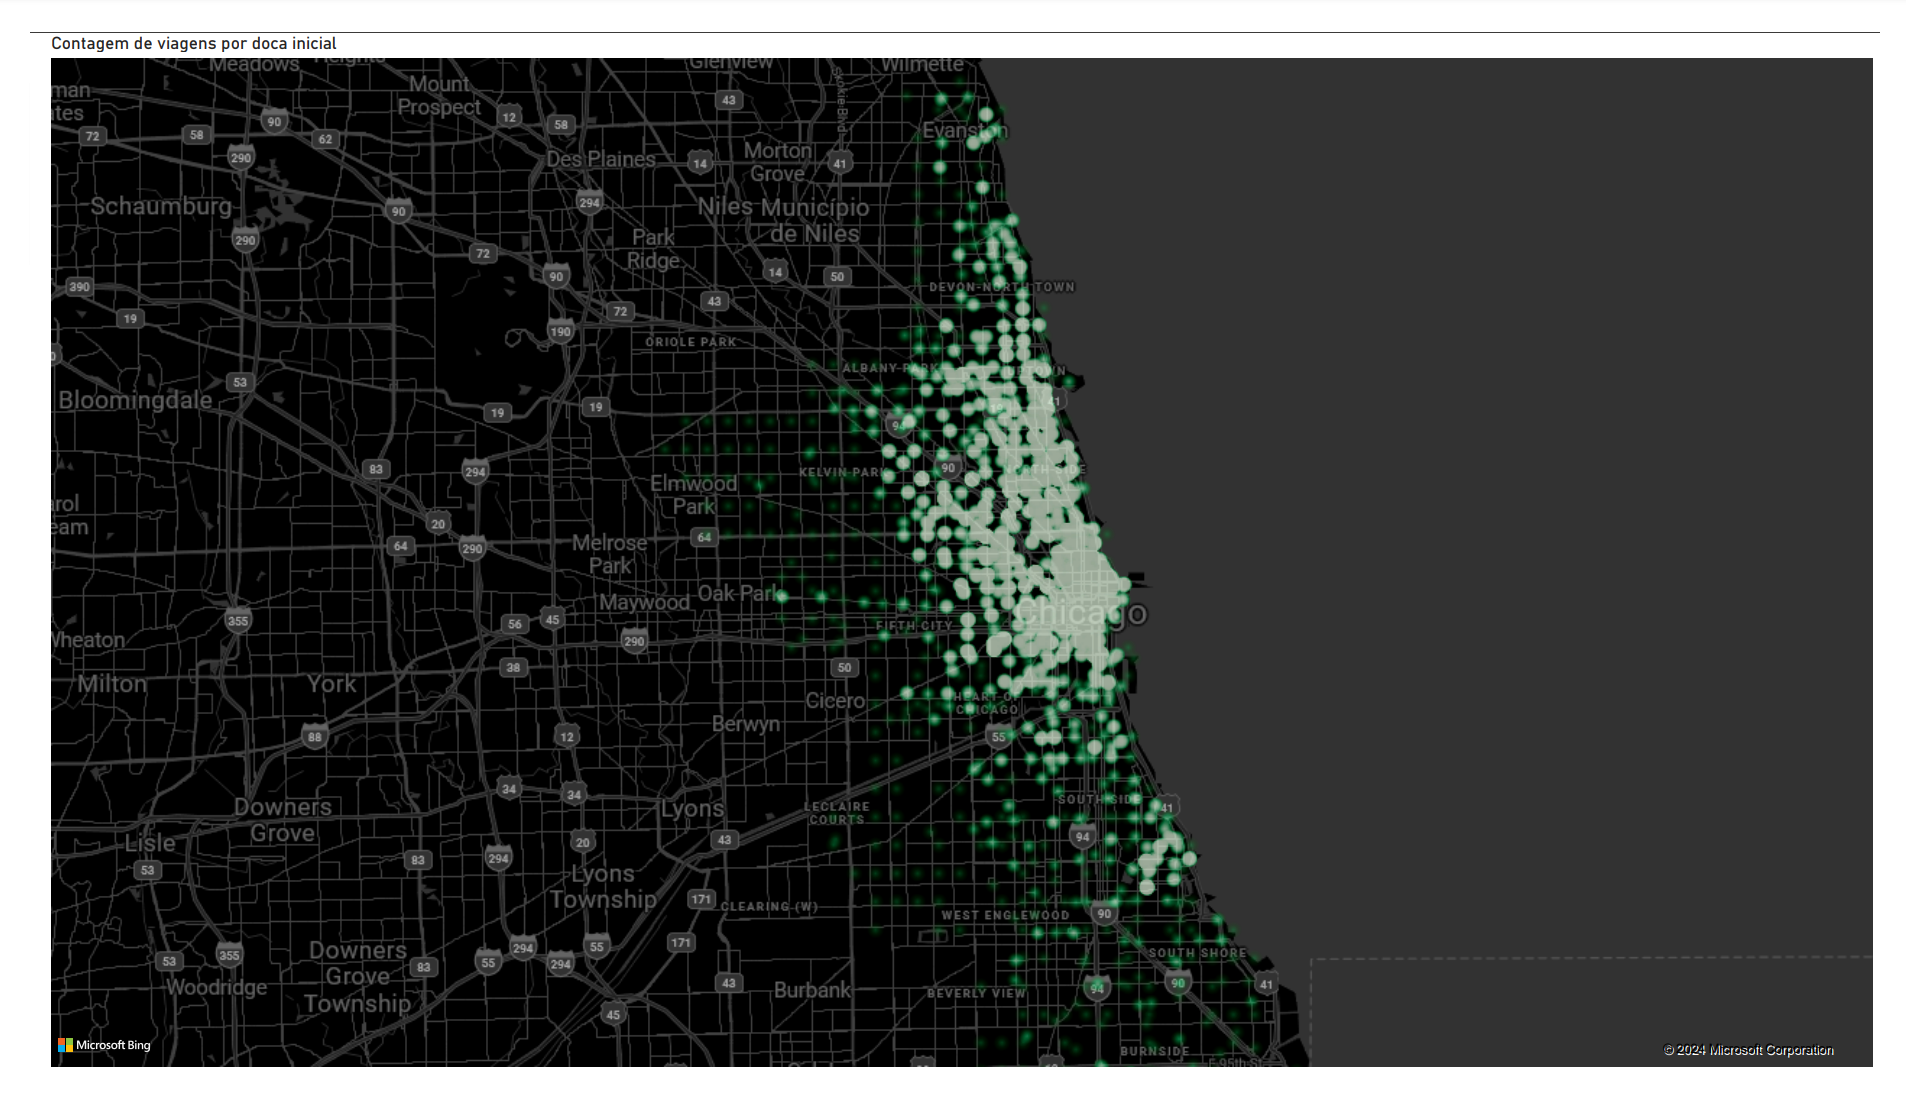

What the dashboard file says about the page in this screenshot:
{"tool":"powerbi","page":{"name":"Página 1","canvas":[1280,720],"ordinal":0},"visuals":[{"type":"map","title":"Contagem de viagens por doca inicial","fields":{"Y":["Sheet1.start_lat"],"X":["Sheet1.start_lng"]},"box":[9.8,0,1270.2,719.8],"z":0}]}

Visuals, with their boxes in screenshot pixels (x1, y1, x2, y2), scaled from the page's 1280x720 canvas onto the 1906x1097 screenshot:
"Contagem de viagens por doca inicial" map: x1=15 y1=0 x2=1905 y2=1096
